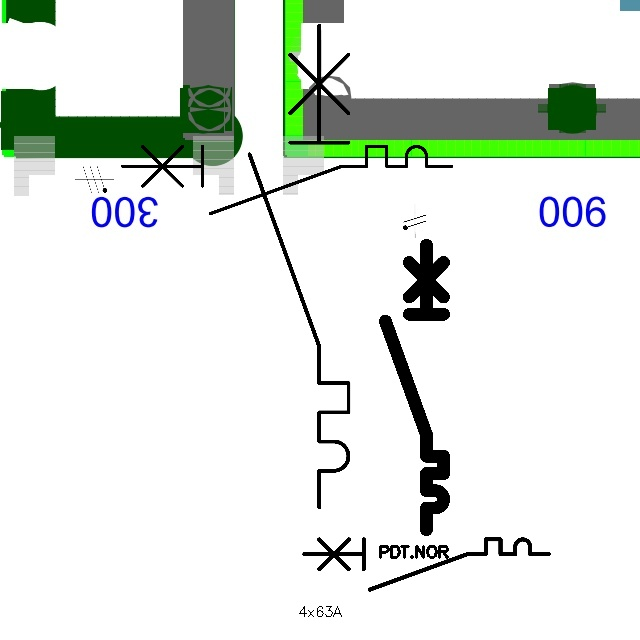interruptor_termomagnetico: (237, 13, 361, 520), (114, 138, 460, 222), (378, 237, 451, 536), (298, 533, 555, 596)
